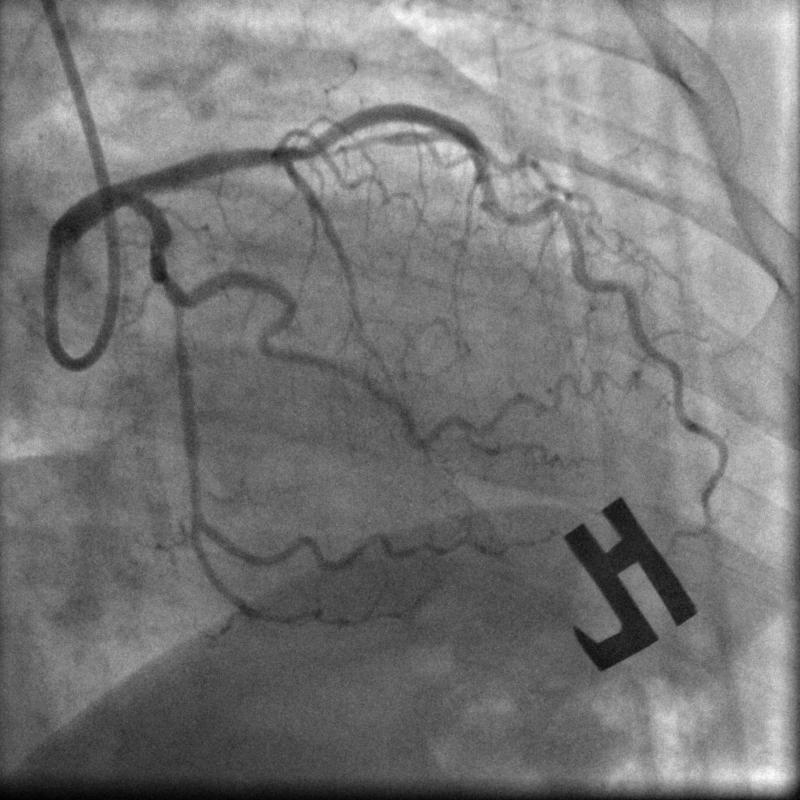Stenosis: (143, 236, 186, 311)
